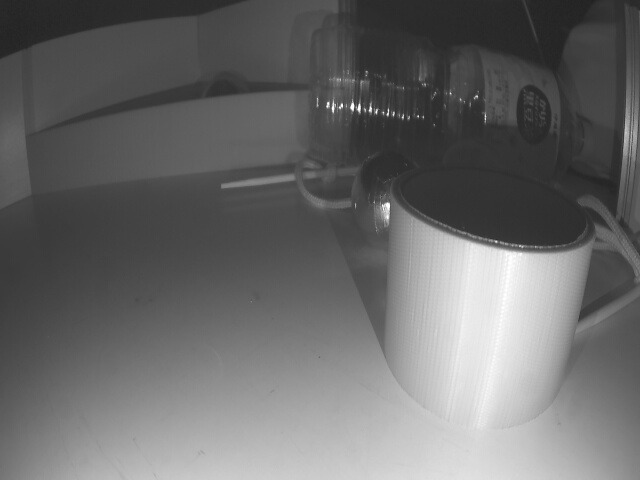Live: (352, 152, 425, 252)
Point: (33, 84, 323, 197)
